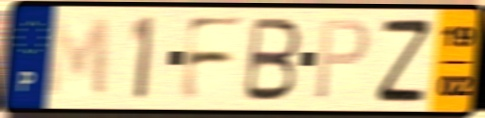1: (128, 14, 156, 103)
B: (240, 15, 305, 104)
F: (176, 14, 248, 104)
M: (44, 15, 113, 101)
P: (312, 16, 372, 103)
Z: (374, 16, 434, 104)
